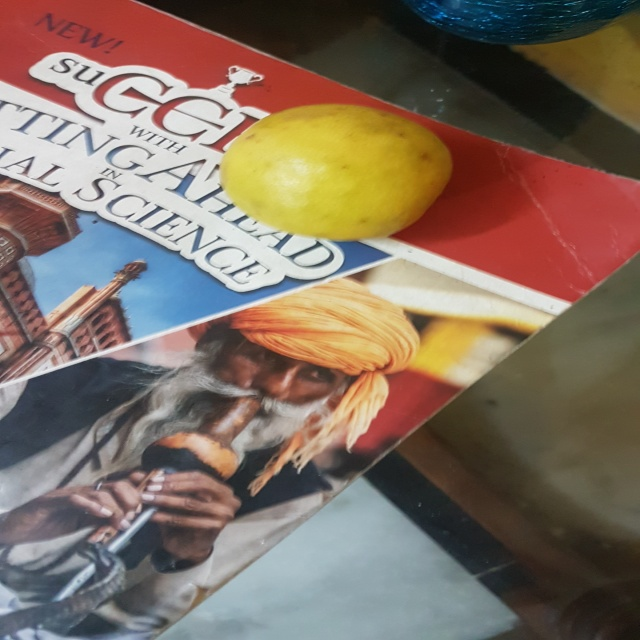lemon: (196, 96, 457, 246)
